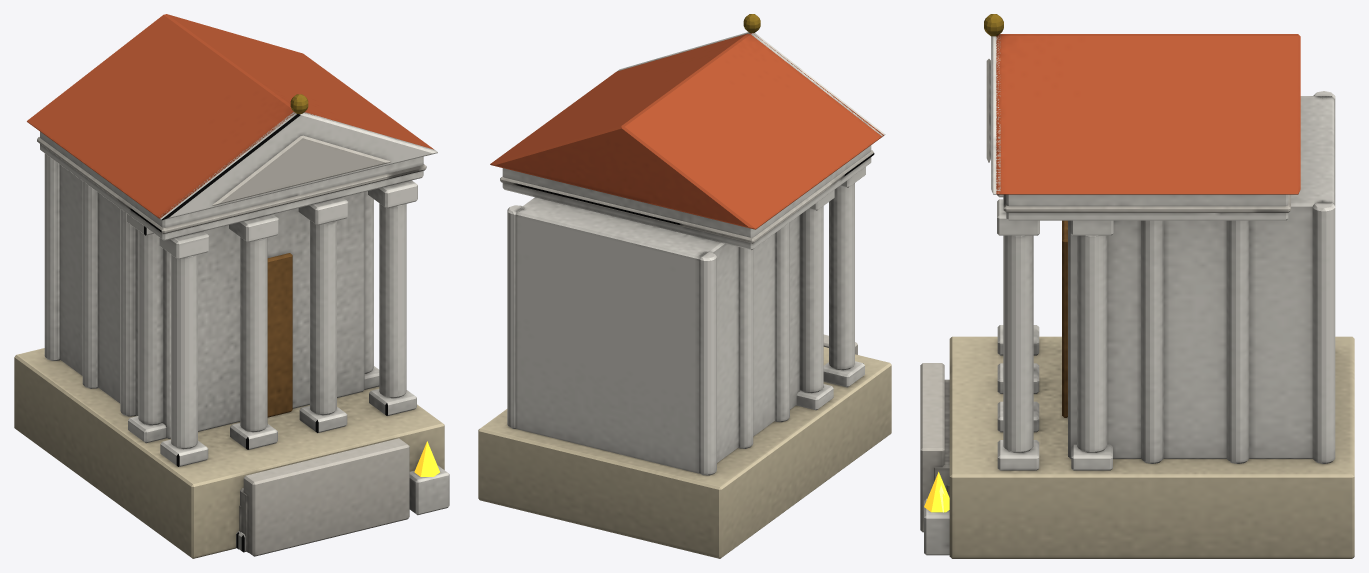
Rendered from swiatynia.glb.
The picture shows the model from 3 angles, left to right: view 1: azimuth 30°, elevation 25°; view 2: azimuth 150°, elevation 25°; view 3: azimuth 270°, elevation 25°; orthographic projection. The views are drawn at different scales.
Parts seen in each view (by area): view 1: swiatynia; view 2: swiatynia; view 3: swiatynia, anim_ogien_oltarz.
Part boxes in pixels (x1,y1,x2,y2): swiatynia: [14, 14, 449, 558]; swiatynia: [478, 14, 891, 558]; swiatynia: [920, 14, 1354, 558]; anim_ogien_oltarz: [924, 472, 949, 512].
Size of the model in its own units: 1.47 by 2.14 by 1.77.
3 materials, 1 textured.
